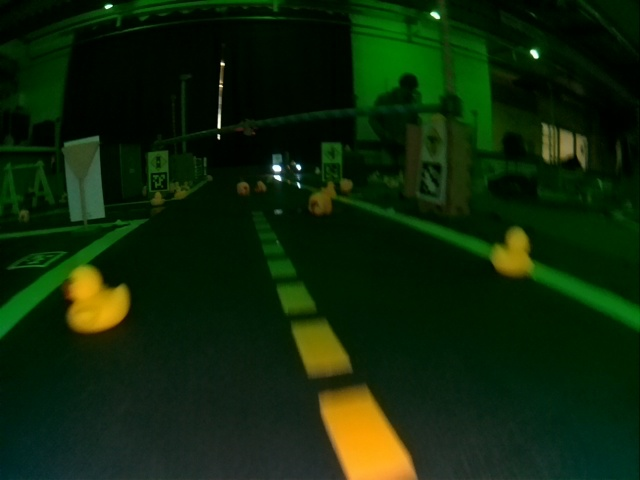Duckie: (65, 265, 130, 332), (491, 227, 535, 276), (310, 194, 332, 213), (150, 192, 165, 205), (237, 181, 250, 194), (340, 179, 352, 192), (256, 182, 266, 192)
Intersection sign: (421, 121, 446, 159), (323, 143, 341, 162)
QR code: (419, 161, 446, 202), (9, 252, 66, 268), (323, 163, 342, 181), (150, 173, 167, 191)
Signal sign: (149, 153, 168, 171)
